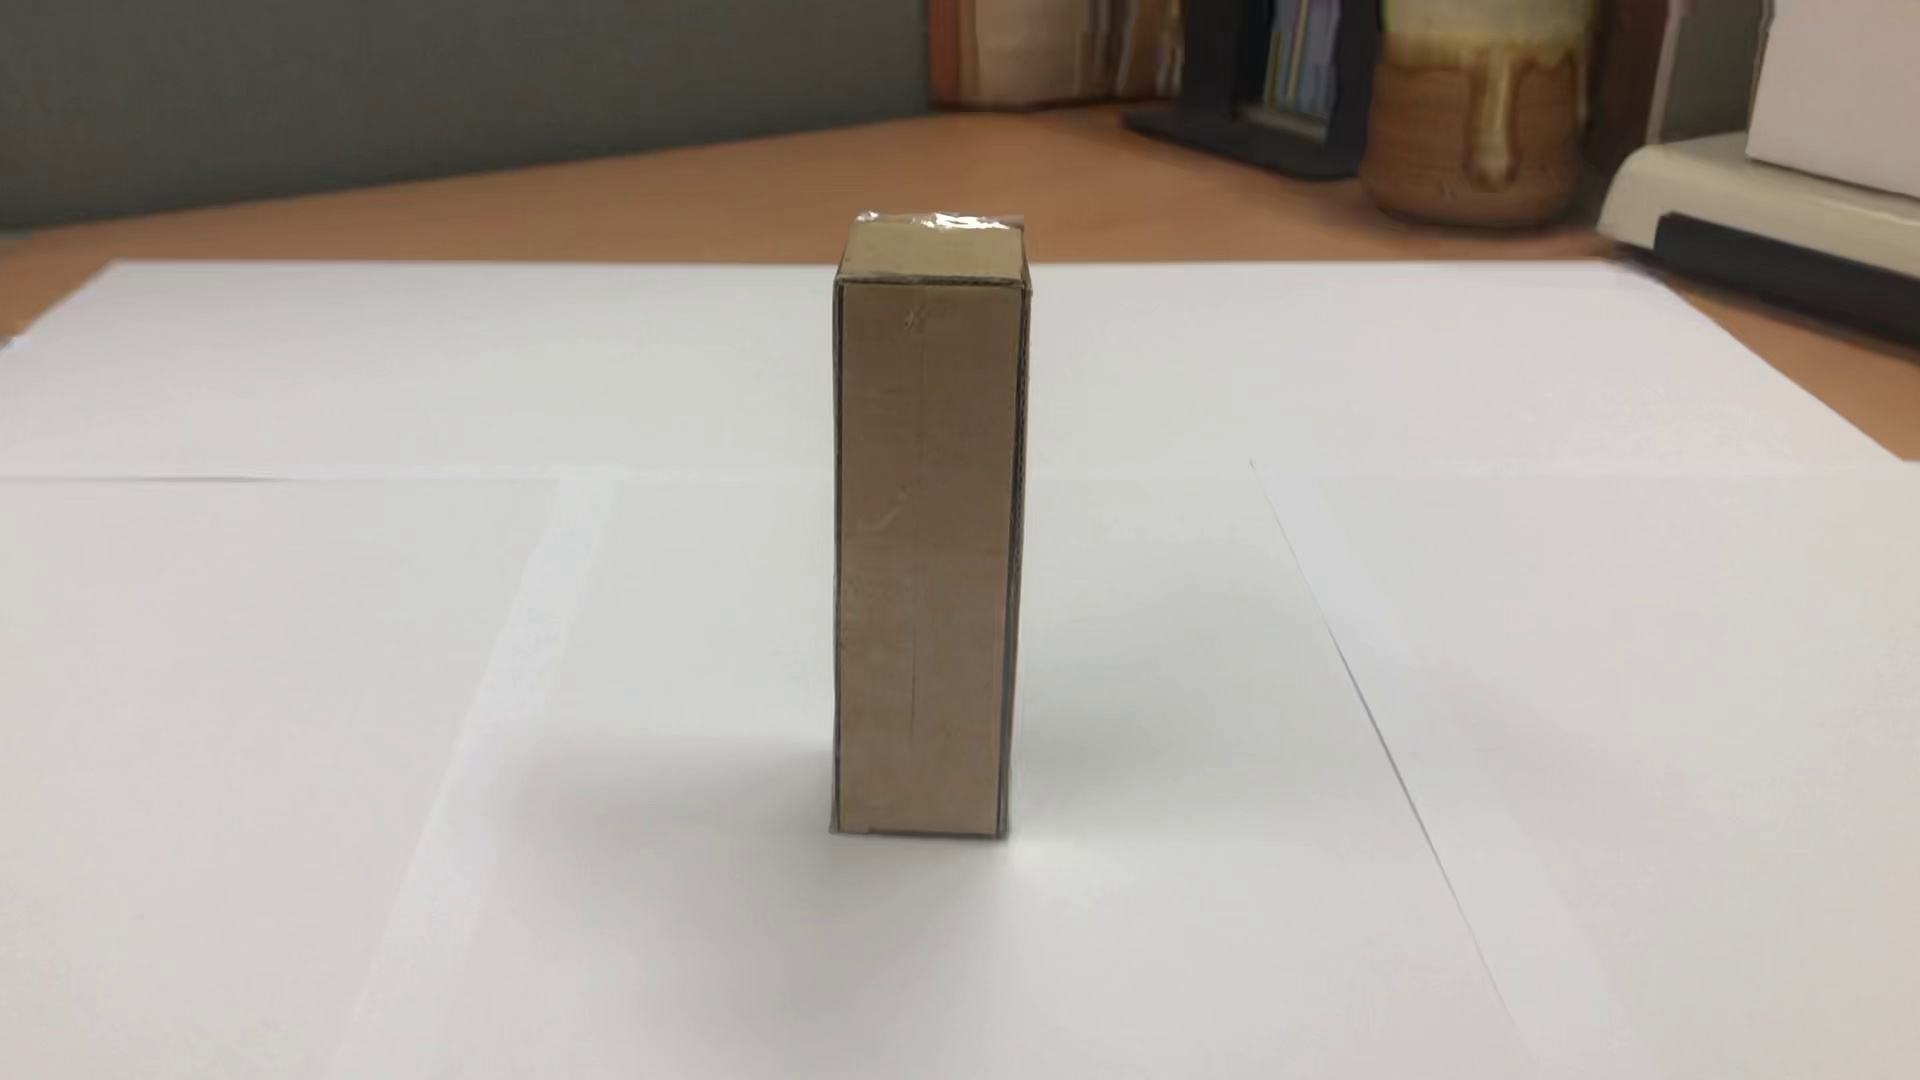box: (804, 189, 1059, 873)
